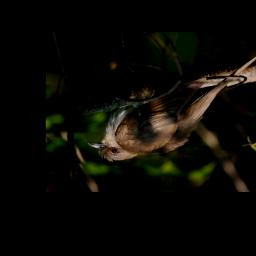Cuckoo: (85, 39, 256, 163)
